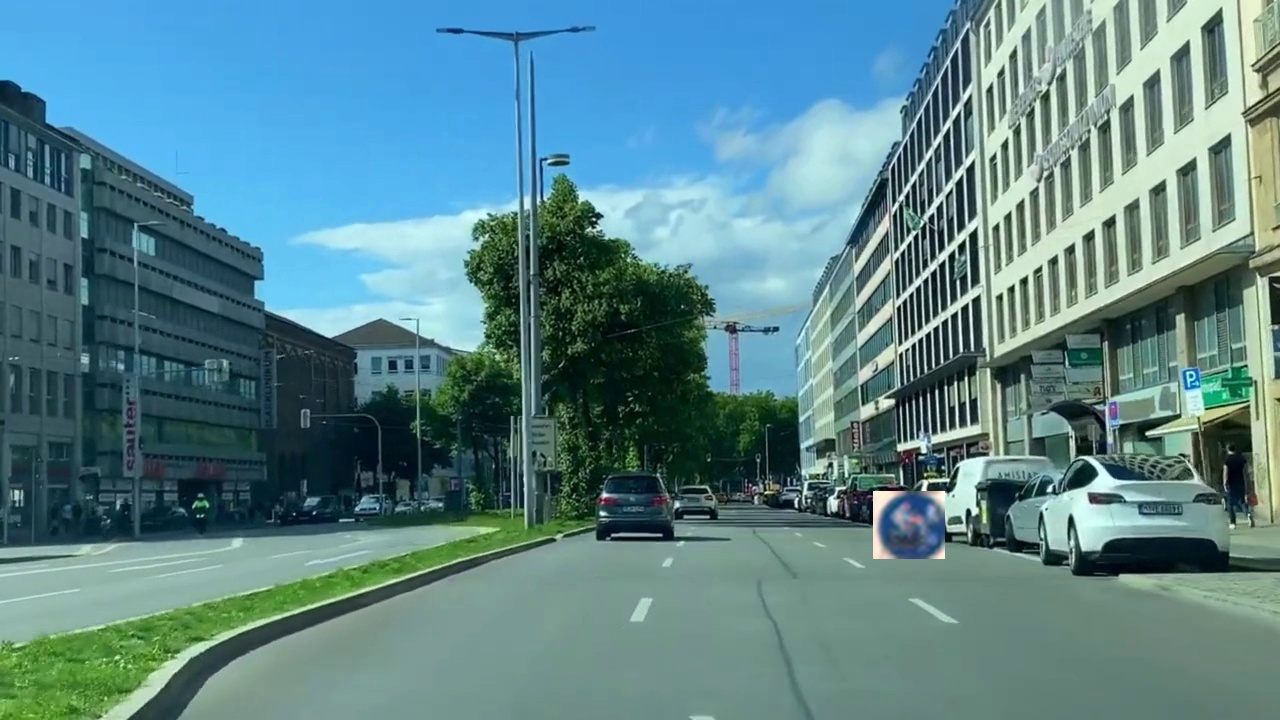Turn left: (873, 491, 945, 559)
